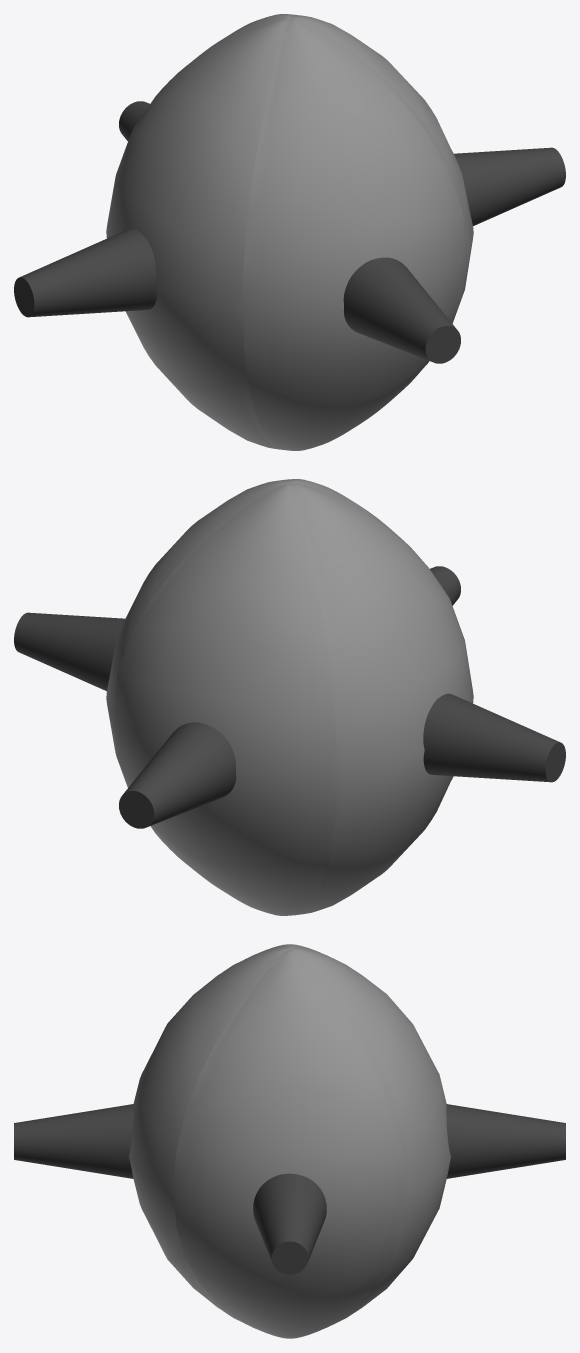
3 views of the same model, one above another, from view 1: azimuth 30°, elevation 25°; view 2: azimuth 150°, elevation 25°; view 3: azimuth 270°, elevation 25° (orthographic). The views are drawn at different scales.
Parts seen in each view (by area): view 1: Body(Convex)+Colour(6000000_6000000)+Pattern(Solid)+Smo_c37e, Arm002, Arm004, Arm001, Arm003; view 2: Body(Convex)+Colour(6000000_6000000)+Pattern(Solid)+Smo_c37e, Arm002, Arm003, Arm001, Arm004; view 3: Body(Convex)+Colour(6000000_6000000)+Pattern(Solid)+Smo_c37e, Arm003, Arm004, Arm001.
Boxes of the visible parts, <box> form: Body(Convex)+Colour(6000000_6000000)+Pattern(Solid)+Smo_c37e: <box>106,14,473,450</box>; Arm002: <box>14,228,156,317</box>; Arm004: <box>343,257,460,363</box>; Arm001: <box>454,147,565,226</box>; Arm003: <box>119,101,149,140</box>; Body(Convex)+Colour(6000000_6000000)+Pattern(Solid)+Smo_c37e: <box>106,479,473,915</box>; Arm002: <box>423,693,565,782</box>; Arm003: <box>119,722,236,828</box>; Arm001: <box>14,612,124,691</box>; Arm004: <box>430,566,460,605</box>; Body(Convex)+Colour(6000000_6000000)+Pattern(Solid)+Smo_c37e: <box>129,944,450,1338</box>; Arm003: <box>446,1104,565,1178</box>; Arm004: <box>14,1104,133,1178</box>; Arm001: <box>253,1173,326,1274</box>.
Size of the model in its own units: 1.52 by 1.17 by 1.52.
2 materials, 2 textured.
